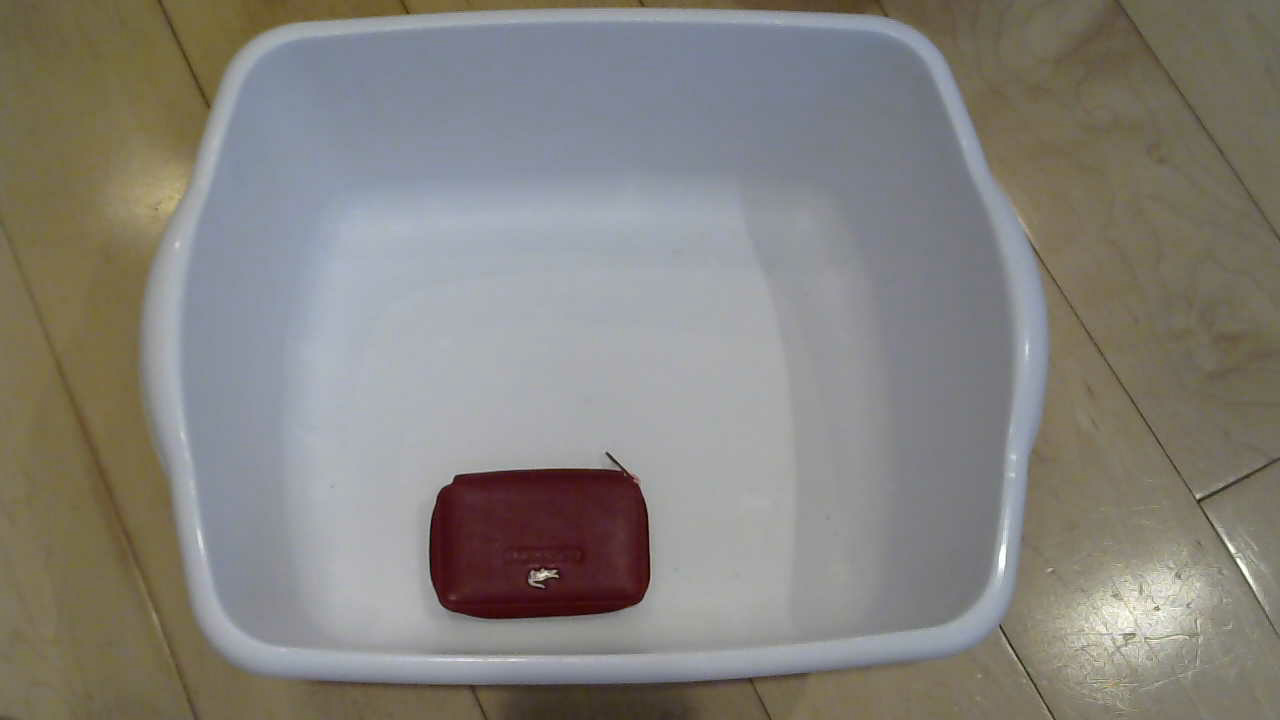wallet: (430, 461, 687, 627)
